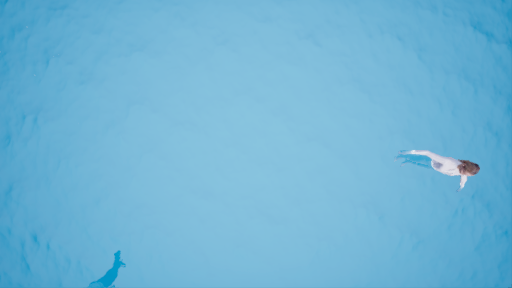person: (401, 147, 486, 197)
